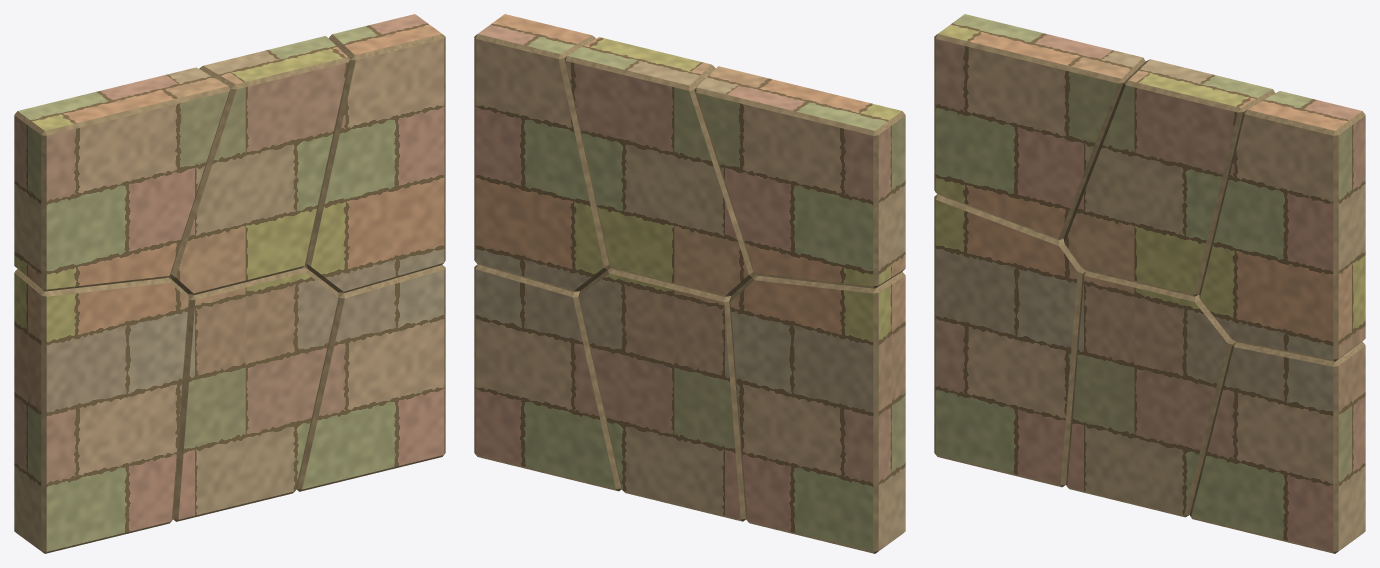
File: Kit_Stone_Wall_Fractured.fbx
3 views of the same model, side by side, from view 1: azimuth 30°, elevation 25°; view 2: azimuth 150°, elevation 25°; view 3: azimuth 330°, elevation 25° (orthographic).
Parts seen in each view (by area): view 1: Kit_Stone_Wall_frag_01, Kit_Stone_Wall_frag_02, Kit_Stone_Wall_frag_03, Kit_Stone_Wall_frag_06, Kit_Stone_Wall_frag_04, Kit_Stone_Wall_frag_05; view 2: Kit_Stone_Wall_frag_01, Kit_Stone_Wall_frag_02, Kit_Stone_Wall_frag_04, Kit_Stone_Wall_frag_03, Kit_Stone_Wall_frag_06, Kit_Stone_Wall_frag_05; view 3: Kit_Stone_Wall_frag_06, Kit_Stone_Wall_frag_01, Kit_Stone_Wall_frag_02, Kit_Stone_Wall_frag_03, Kit_Stone_Wall_frag_04, Kit_Stone_Wall_frag_05.
Part boxes in pixels (left/top/right/bottom): Kit_Stone_Wall_frag_01: left=14, top=269, right=189, bottom=553; Kit_Stone_Wall_frag_02: left=14, top=67, right=230, bottom=291; Kit_Stone_Wall_frag_03: left=173, top=266, right=339, bottom=521; Kit_Stone_Wall_frag_06: left=304, top=14, right=445, bottom=293; Kit_Stone_Wall_frag_04: left=168, top=36, right=350, bottom=295; Kit_Stone_Wall_frag_05: left=296, top=265, right=445, bottom=491; Kit_Stone_Wall_frag_01: left=729, top=271, right=905, bottom=553; Kit_Stone_Wall_frag_02: left=694, top=66, right=905, bottom=288; Kit_Stone_Wall_frag_04: left=564, top=37, right=755, bottom=296; Kit_Stone_Wall_frag_03: left=578, top=267, right=746, bottom=521; Kit_Stone_Wall_frag_06: left=474, top=14, right=610, bottom=292; Kit_Stone_Wall_frag_05: left=474, top=264, right=621, bottom=491; Kit_Stone_Wall_frag_06: left=1199, top=91, right=1365, bottom=361; Kit_Stone_Wall_frag_01: left=934, top=194, right=1085, bottom=487; Kit_Stone_Wall_frag_02: left=934, top=14, right=1145, bottom=239; Kit_Stone_Wall_frag_03: left=1066, top=271, right=1235, bottom=517; Kit_Stone_Wall_frag_04: left=1063, top=59, right=1275, bottom=296; Kit_Stone_Wall_frag_05: left=1189, top=341, right=1365, bottom=553.
Size of what is drawn, in the model's own units: 3 by 3 by 0.4.
2 materials, 2 textured.
